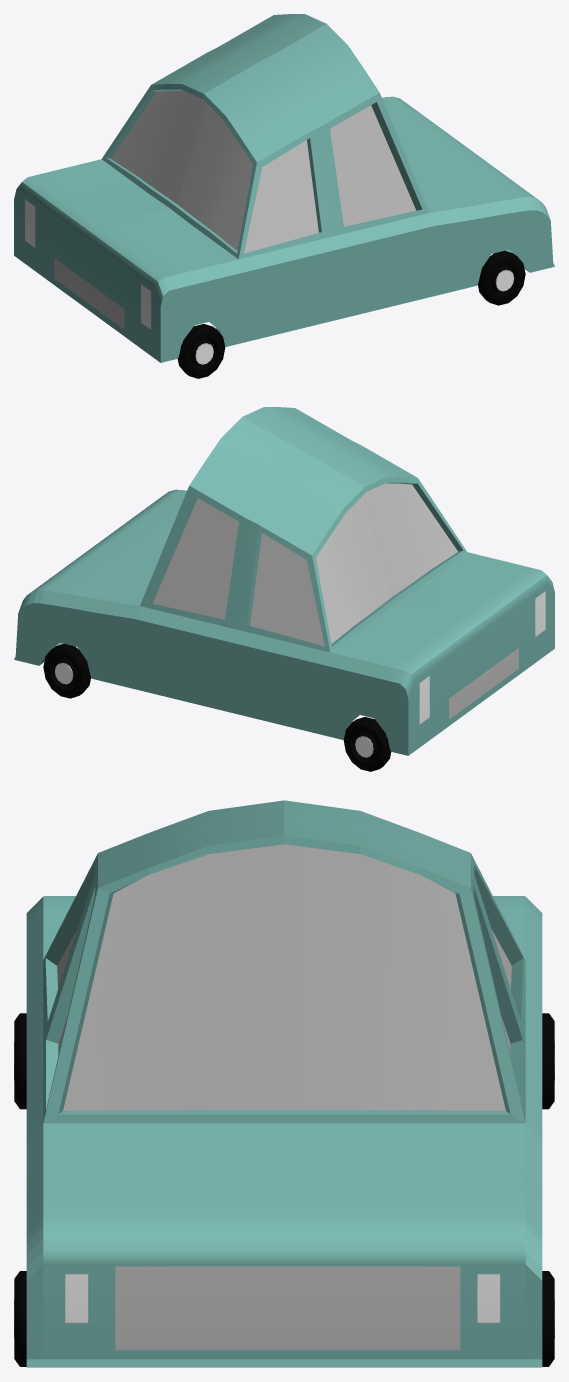
Rendered from car_whole.fbx.
3 views of the same model, one above another, from view 1: azimuth 30°, elevation 25°; view 2: azimuth 150°, elevation 25°; view 3: azimuth 270°, elevation 25° (orthographic). The views are drawn at different scales.
Parts seen in each view (by area): view 1: Car2; view 2: Car2; view 3: Car2.
Part boxes in pixels (x1,y1,x2,y2): Car2: [14, 14, 554, 378]; Car2: [14, 407, 554, 771]; Car2: [14, 800, 554, 1367].
Size of the model in its own units: 3.32 by 2.01 by 2.24.
